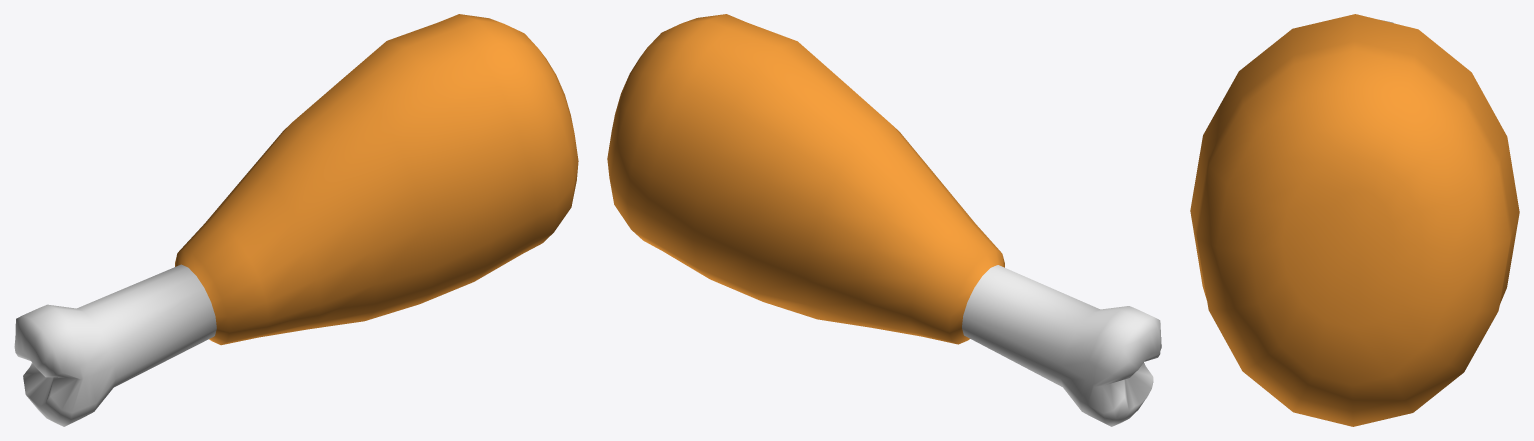
Rendered from ChickenSign.fbx.
The picture shows the model from 3 angles, left to right: view 1: azimuth 30°, elevation 25°; view 2: azimuth 150°, elevation 25°; view 3: azimuth 270°, elevation 25°; orthographic projection. The views are drawn at different scales.
Parts seen in each view (by area): view 1: Sphere; view 2: Sphere; view 3: Sphere.
Boxes of the visible parts, x1,y1,x2,y2 form: Sphere: (14, 14, 578, 426); Sphere: (607, 14, 1161, 426); Sphere: (1190, 14, 1519, 426).
Bounding box in the file's own units: 275 × 98.39 × 149.
